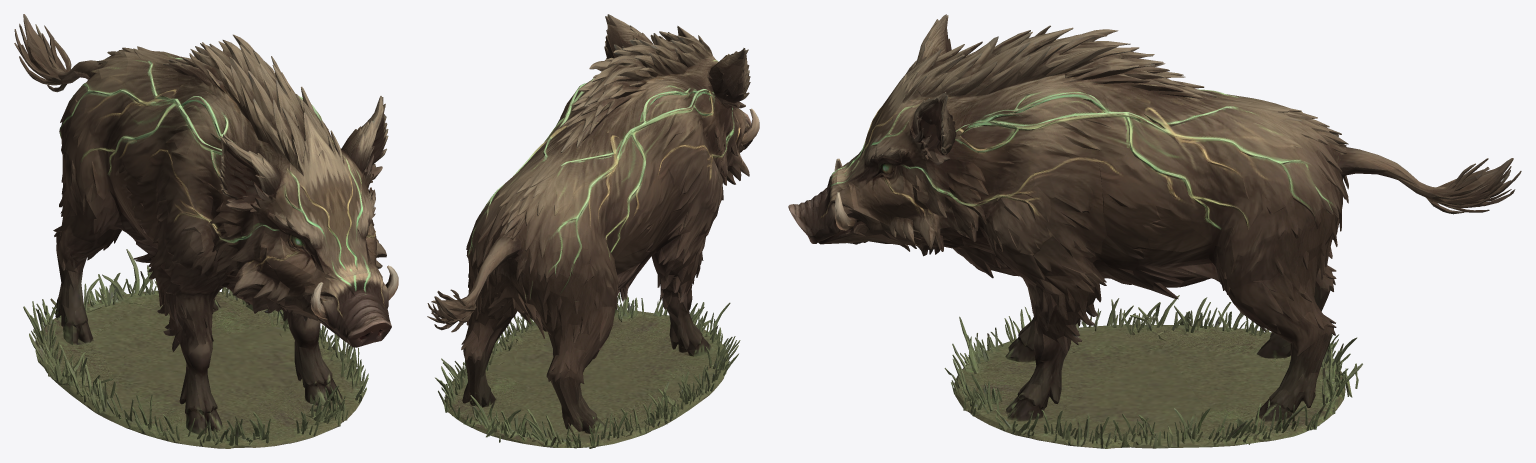
The model's file is mudsnout_a.glb.
3 renders of one model, left to right at view 1: azimuth 30°, elevation 25°; view 2: azimuth 150°, elevation 25°; view 3: azimuth 270°, elevation 25°, orthographic. The views are drawn at different scales.
Visible parts, largest first — view 1: Mesh_0; view 2: Mesh_0; view 3: Mesh_0.
Part boxes in pixels (x1,y1,x2,y2): Mesh_0: [14, 14, 398, 448]; Mesh_0: [427, 14, 759, 448]; Mesh_0: [788, 14, 1521, 448].
Size of the model in its own units: 0.7776 by 1.03 by 1.9.
Materials: 1 (1 with a texture image).
